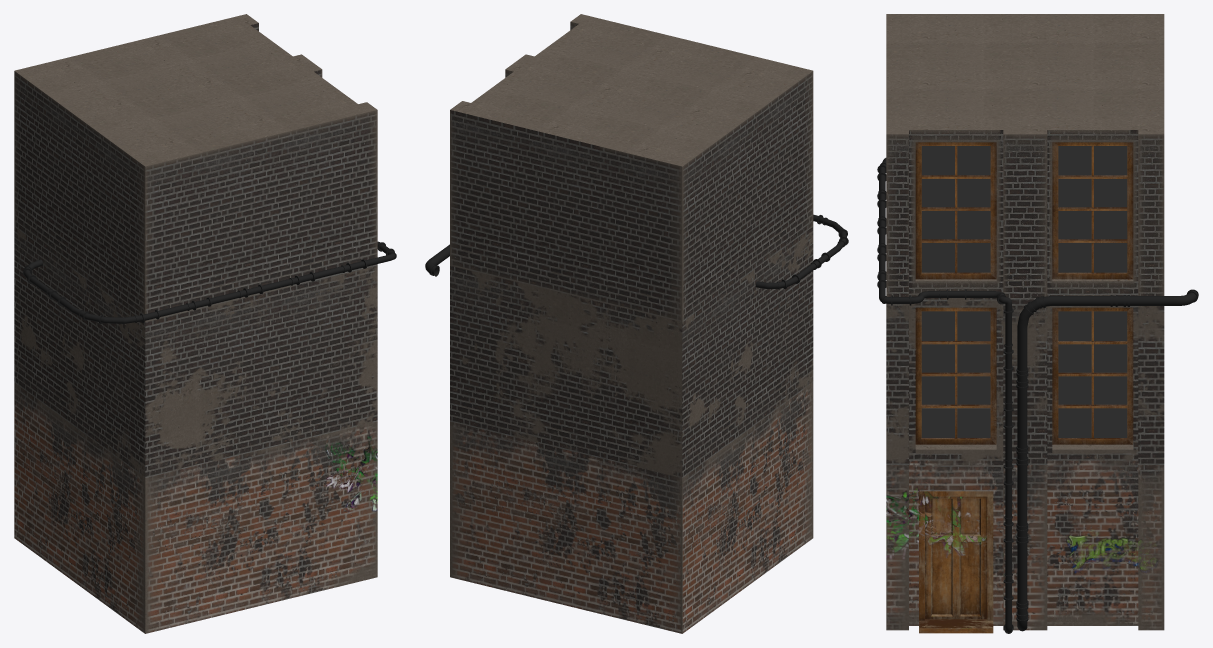
3 views of the same model, side by side, from view 1: azimuth 30°, elevation 25°; view 2: azimuth 150°, elevation 25°; view 3: azimuth 270°, elevation 25° (orthographic). The views are drawn at different scales.
Visible parts, largest first — view 1: Pose.002, Pose, Pose.001, Pose.005; view 2: Pose.002, Pose, Pose.001, Pose.005; view 3: Pose.002, Pose.003, Pose, Pose.001, Pose.004, Pose.006, Pose.005.
Part boxes in pixels (bbox=[...]): Pose.002: bbox=[14, 14, 377, 322]; Pose: bbox=[14, 382, 377, 633]; Pose.001: bbox=[14, 227, 377, 477]; Pose.005: bbox=[22, 241, 396, 324]; Pose.002: bbox=[450, 14, 813, 322]; Pose: bbox=[450, 383, 813, 633]; Pose.001: bbox=[450, 227, 813, 477]; Pose.005: bbox=[755, 214, 848, 289]; Pose.002: bbox=[886, 14, 1164, 299]; Pose.003: bbox=[915, 142, 1133, 446]; Pose: bbox=[886, 460, 1164, 630]; Pose.001: bbox=[886, 295, 1164, 464]; Pose.004: bbox=[919, 491, 993, 633]; Pose.006: bbox=[1016, 289, 1198, 631]; Pose.005: bbox=[877, 158, 1013, 633].
Size of the model in its own units: 8373 by 12321 by 7225.
7 materials, 7 textured.
